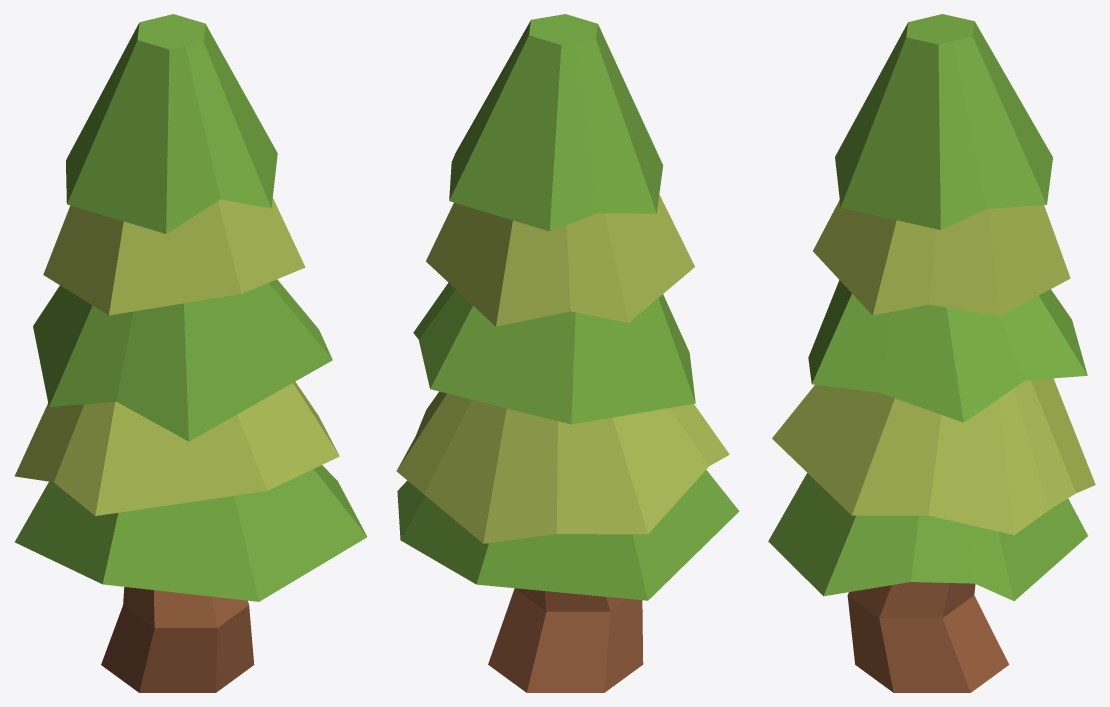
File: ArbolOtoño2.fbx
3 views of the same model, side by side, from view 1: azimuth 30°, elevation 25°; view 2: azimuth 150°, elevation 25°; view 3: azimuth 270°, elevation 25° (orthographic).
Visible parts, largest first — view 1: Cylinder.005, Cylinder.003, Cylinder.001, Cylinder.002, Cylinder.004, Cylinder; view 2: Cylinder.002, Cylinder.005, Cylinder.003, Cylinder.004, Cylinder.001, Cylinder; view 3: Cylinder.002, Cylinder.005, Cylinder.003, Cylinder.001, Cylinder.004, Cylinder.
Boxes of the visible parts, bbox=[...] form: Cylinder.005: bbox=[66, 14, 277, 233]; Cylinder.003: bbox=[33, 279, 332, 441]; Cylinder.001: bbox=[15, 465, 367, 601]; Cylinder.002: bbox=[15, 381, 339, 515]; Cylinder.004: bbox=[43, 198, 305, 315]; Cylinder: bbox=[101, 587, 254, 692]; Cylinder.002: bbox=[396, 391, 729, 543]; Cylinder.005: bbox=[449, 14, 663, 231]; Cylinder.003: bbox=[413, 283, 695, 424]; Cylinder.004: bbox=[426, 194, 694, 326]; Cylinder.001: bbox=[397, 470, 739, 600]; Cylinder: bbox=[488, 588, 643, 692]; Cylinder.002: bbox=[772, 378, 1095, 534]; Cylinder.005: bbox=[835, 14, 1052, 229]; Cylinder.003: bbox=[808, 280, 1087, 422]; Cylinder.001: bbox=[768, 473, 1087, 601]; Cylinder.004: bbox=[813, 200, 1070, 316]; Cylinder: bbox=[847, 582, 1009, 692].
Size of the model in its own units: 426 by 910 by 425.
